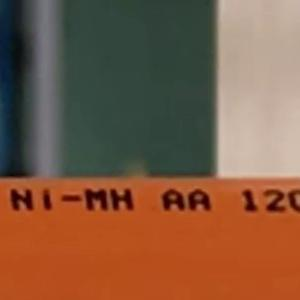keyword: (1, 179, 143, 220)
